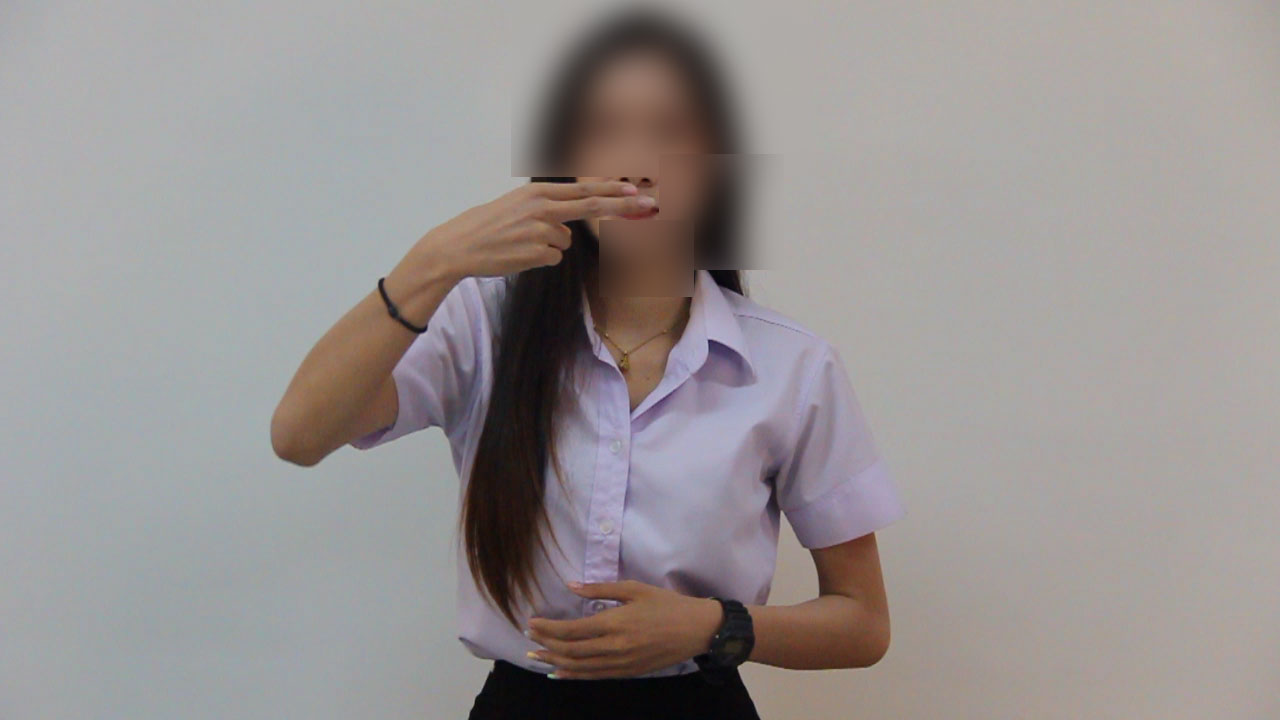hor: (429, 173, 665, 291)
